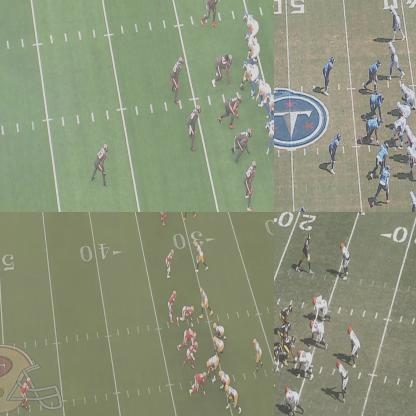CENTER: (240, 56, 256, 94), (283, 336, 294, 367), (204, 353, 219, 372), (391, 121, 401, 144)
DB: (93, 145, 110, 179), (247, 160, 256, 205), (340, 241, 349, 280), (21, 376, 30, 407), (166, 250, 172, 276), (161, 212, 170, 226)
LB: (172, 54, 184, 98), (337, 360, 348, 400), (188, 104, 198, 147), (380, 161, 391, 198), (350, 326, 360, 364), (324, 56, 333, 94), (332, 132, 341, 170), (168, 293, 177, 322), (370, 61, 380, 87), (188, 344, 197, 366)
QB: (253, 338, 262, 375)
SKILL: (390, 42, 404, 79), (194, 238, 206, 270), (392, 6, 403, 38), (304, 234, 312, 269), (200, 287, 209, 314), (265, 122, 273, 151), (183, 212, 195, 218)
